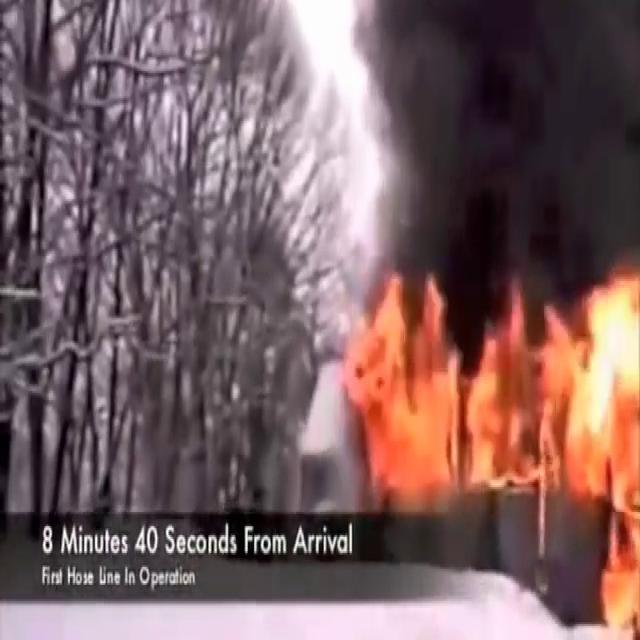Fire: (336, 255, 640, 524)
Smoke: (327, 0, 640, 316)
